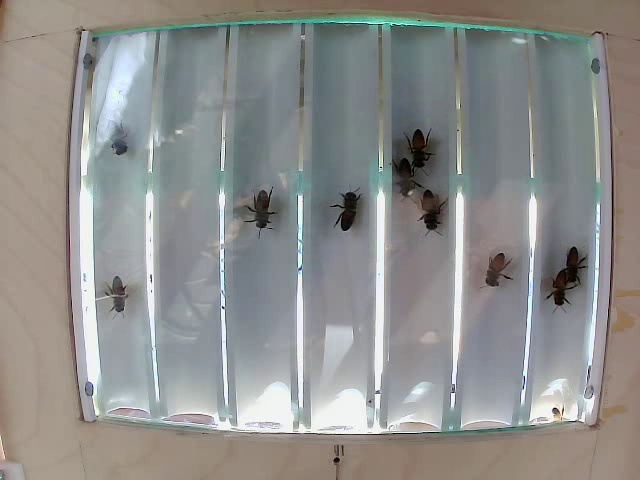bee: (241, 175, 285, 238), (330, 182, 366, 232), (384, 152, 419, 196), (405, 119, 436, 166), (543, 265, 571, 312), (415, 185, 438, 235), (563, 255, 584, 293), (485, 253, 510, 284)
